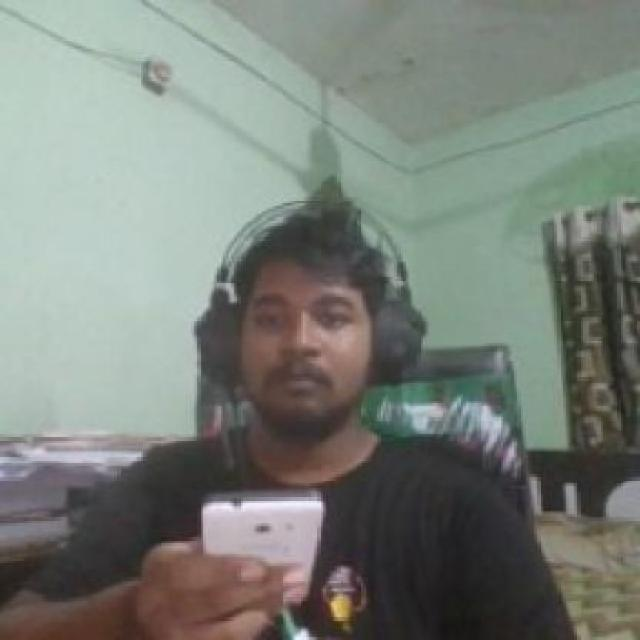Phone: (200, 496, 327, 609)
